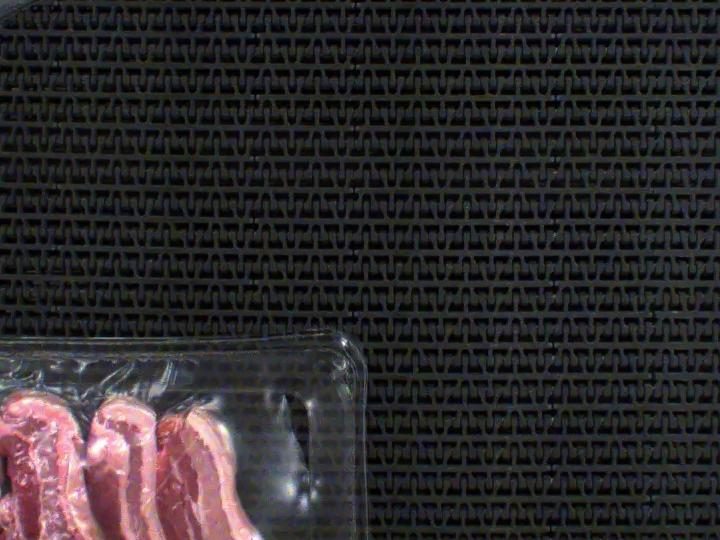unsealed: (0, 333, 348, 540)
